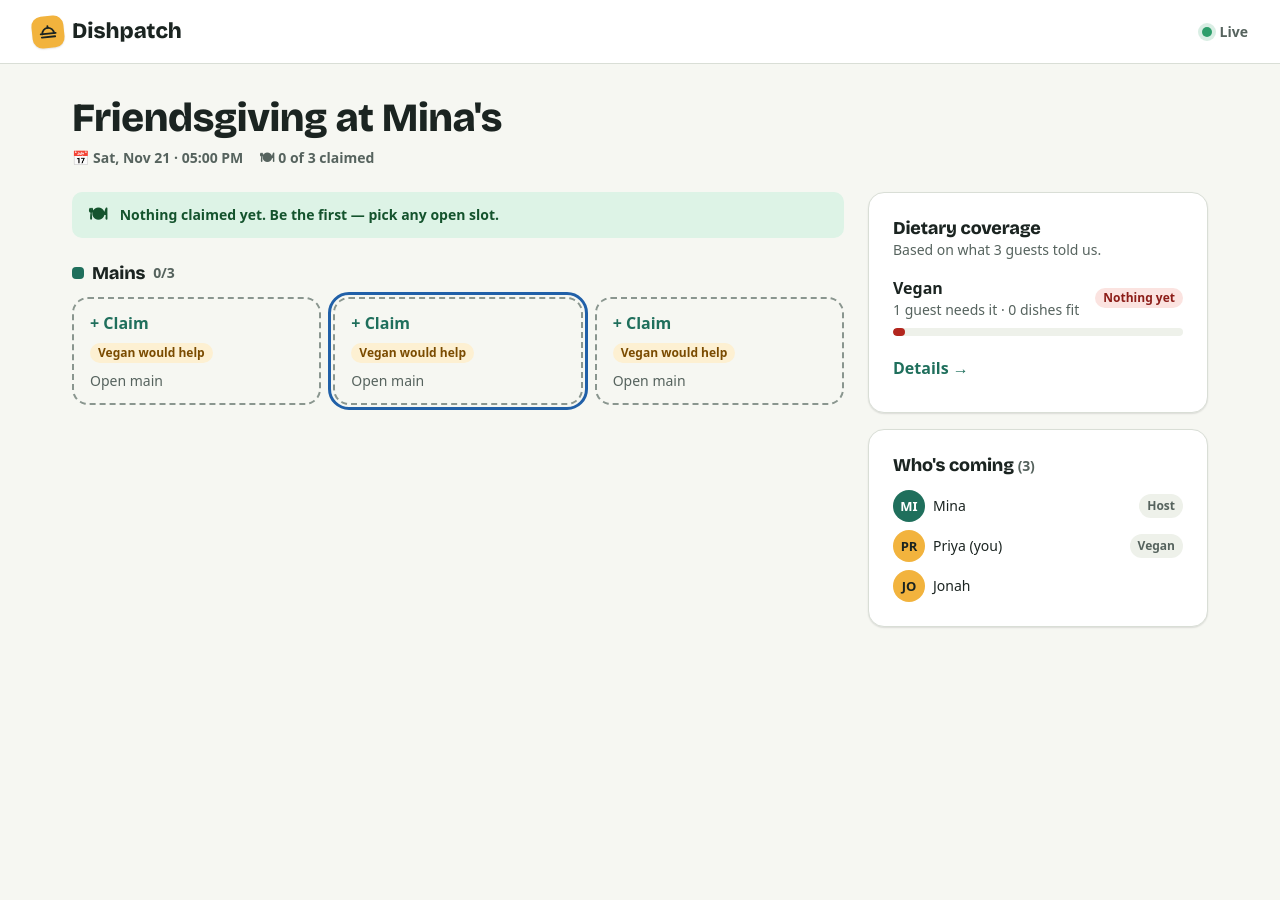
Scenario: ClaimDialog › keeps the dialog and toasts when the network fails, after rolling back
Click the button with aria-label "Claim open Mains slot 2" at (458, 351), box [333,297,583,405]
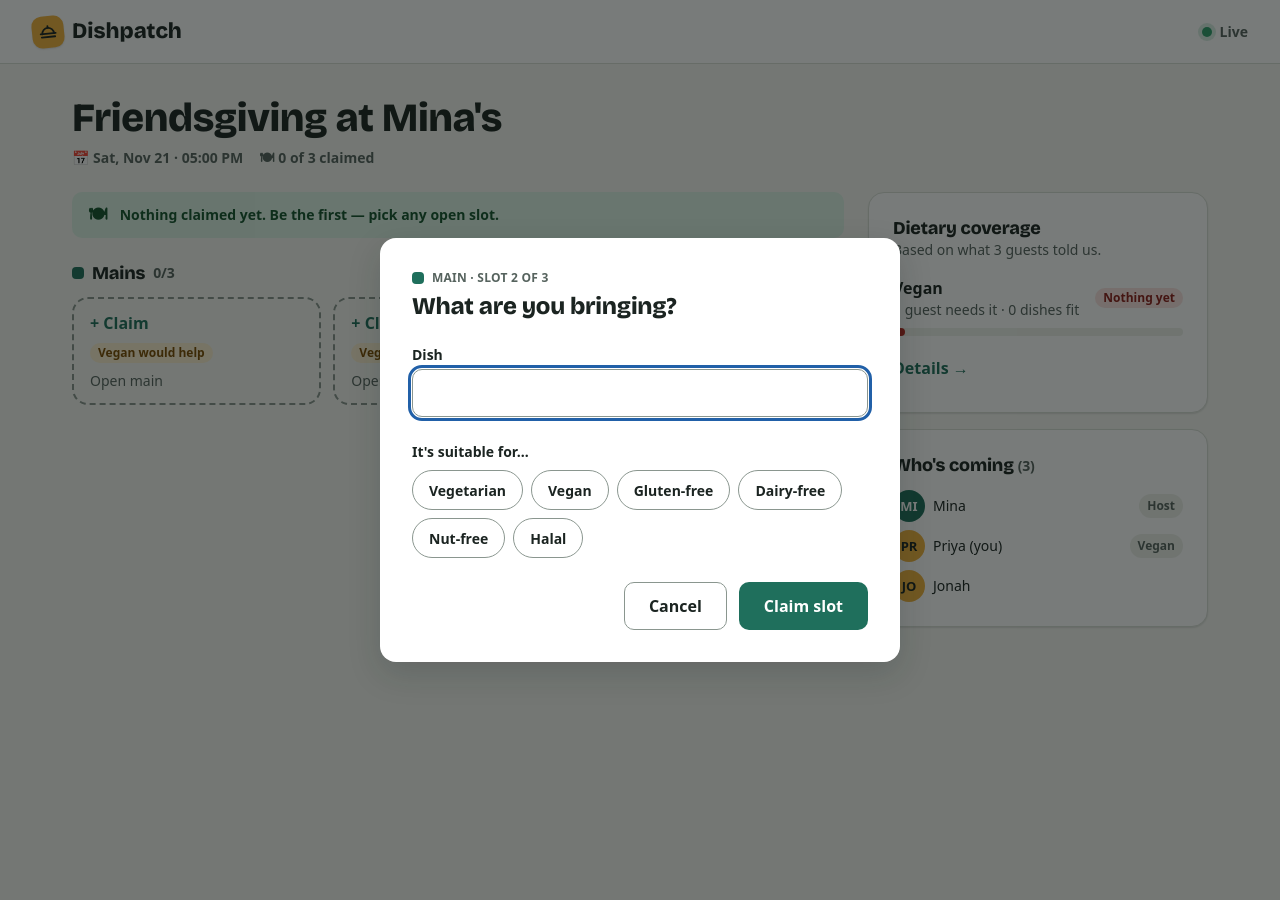
Type "Mushroom pie" into the field labelled "Dish" at (640, 393), box [412,369,868,417]
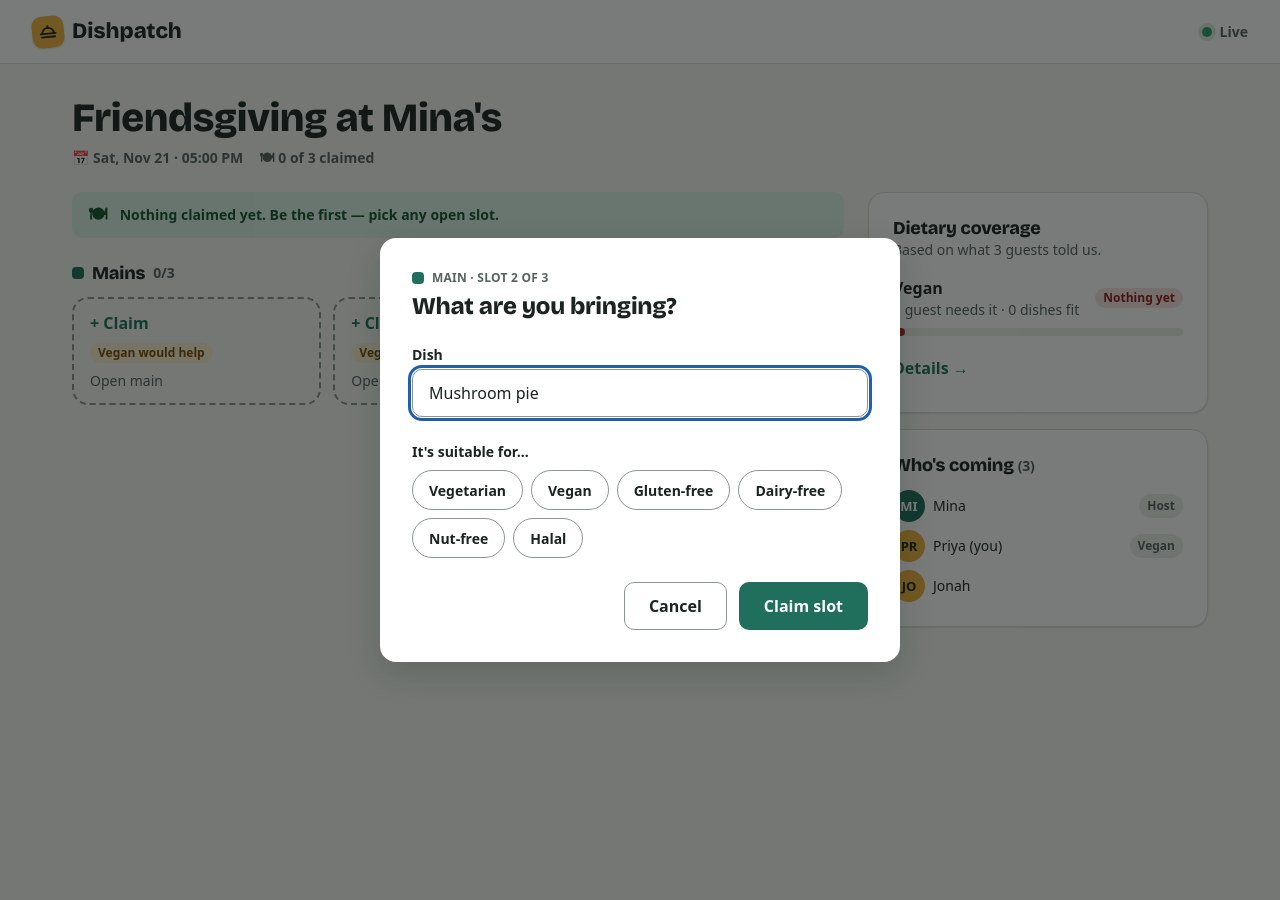
Click the button "Vegan" at (570, 490), box [531,470,609,510]
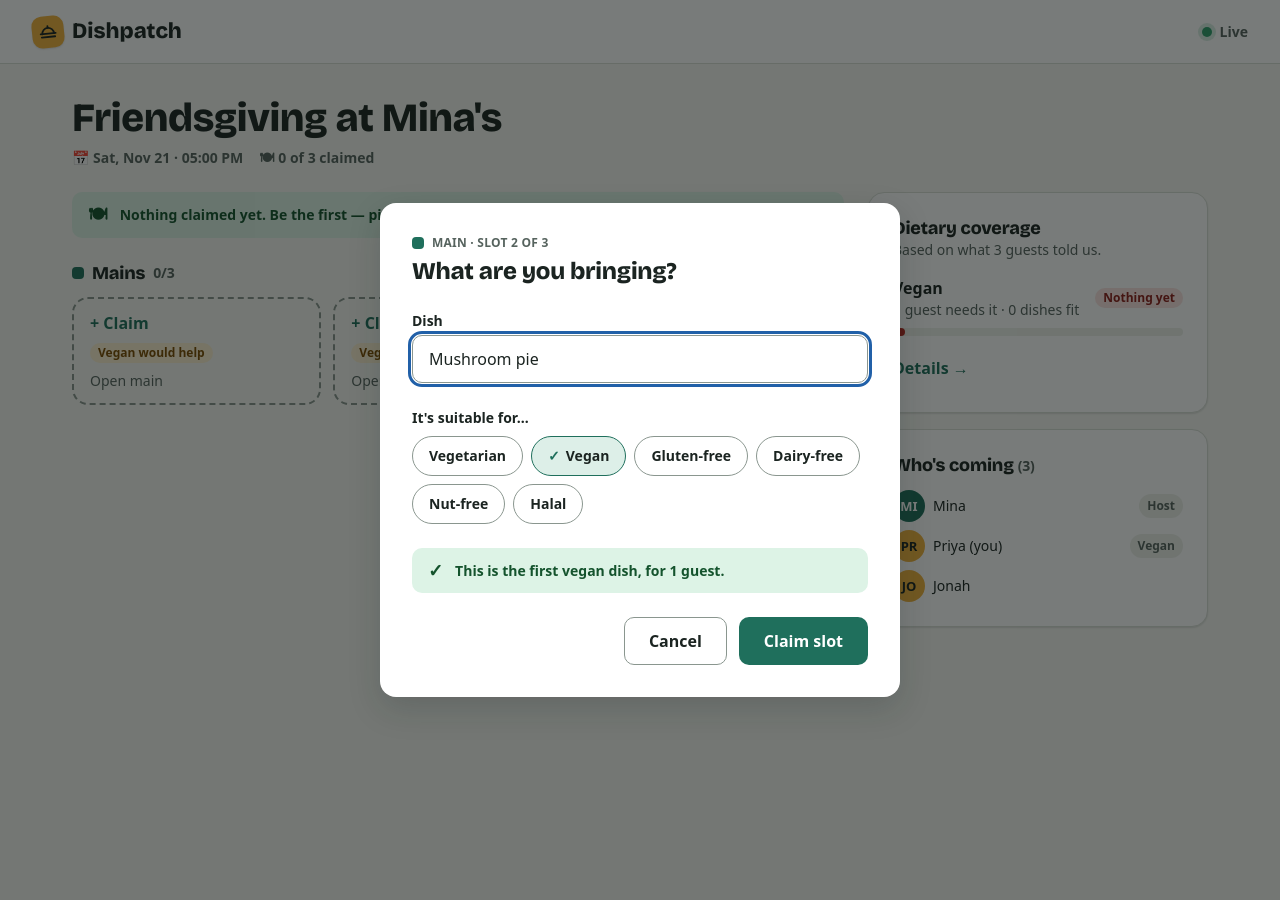
Click the button "Claim slot" at (803, 641), box [739,617,868,665]
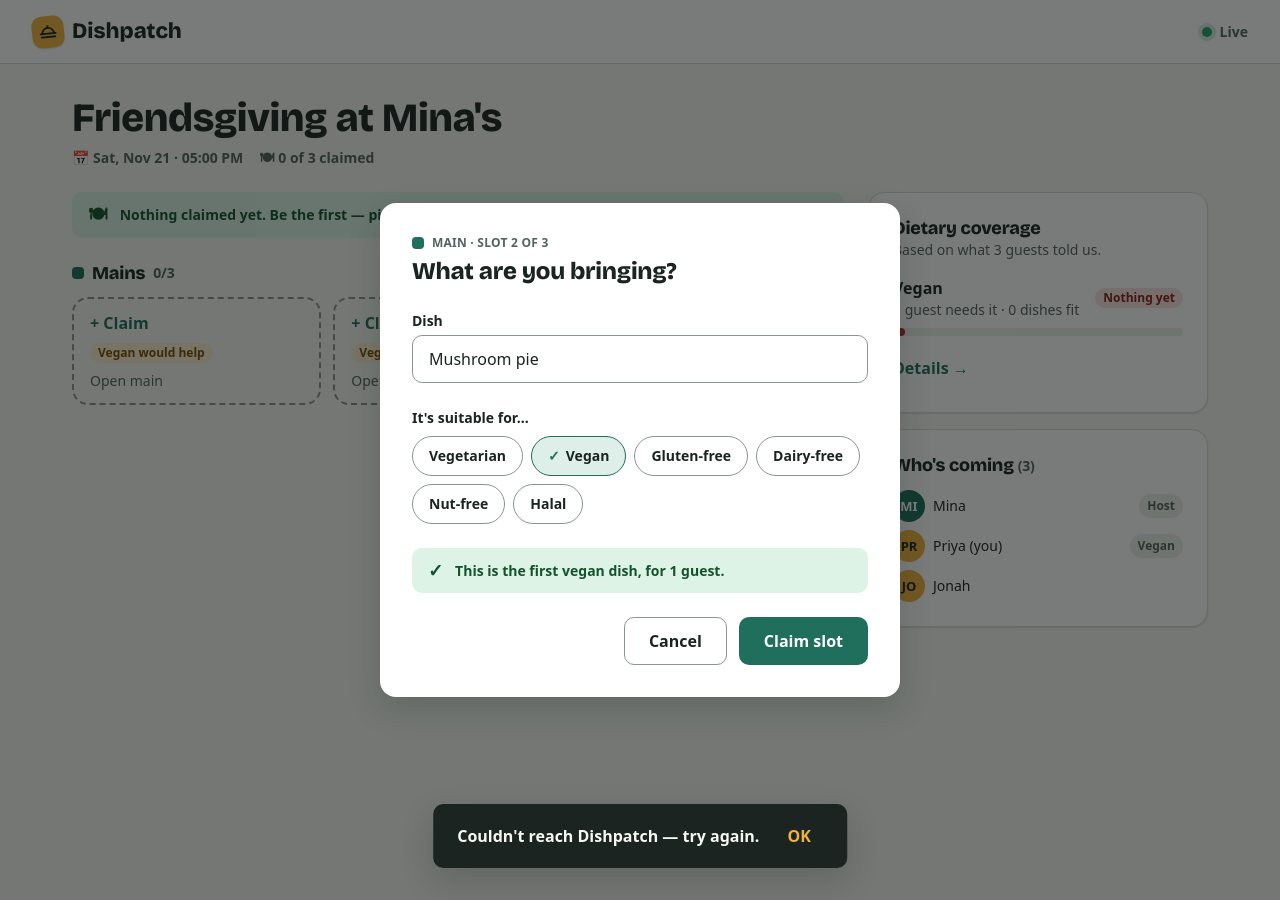
Expected: the button "Claim slot" is shown, [739,617,868,665]
Expected: the text "Couldn't reach Dishpatch — try again." is shown, [457,825,759,847]
